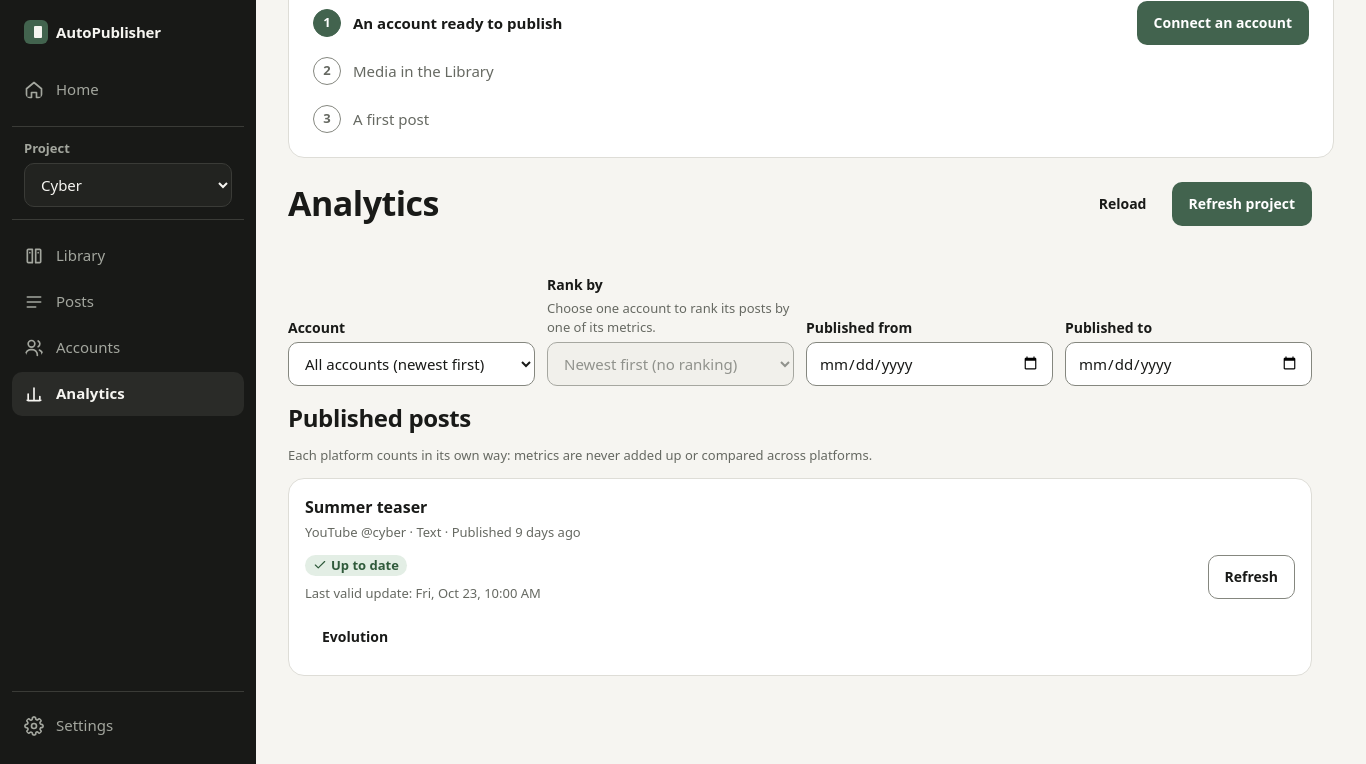
Test: Post evolution › shows a single reading without a line
(page scrolled)
Click the button "Evolution" at (355, 637), box [305,615,405,659]
(page scrolled)
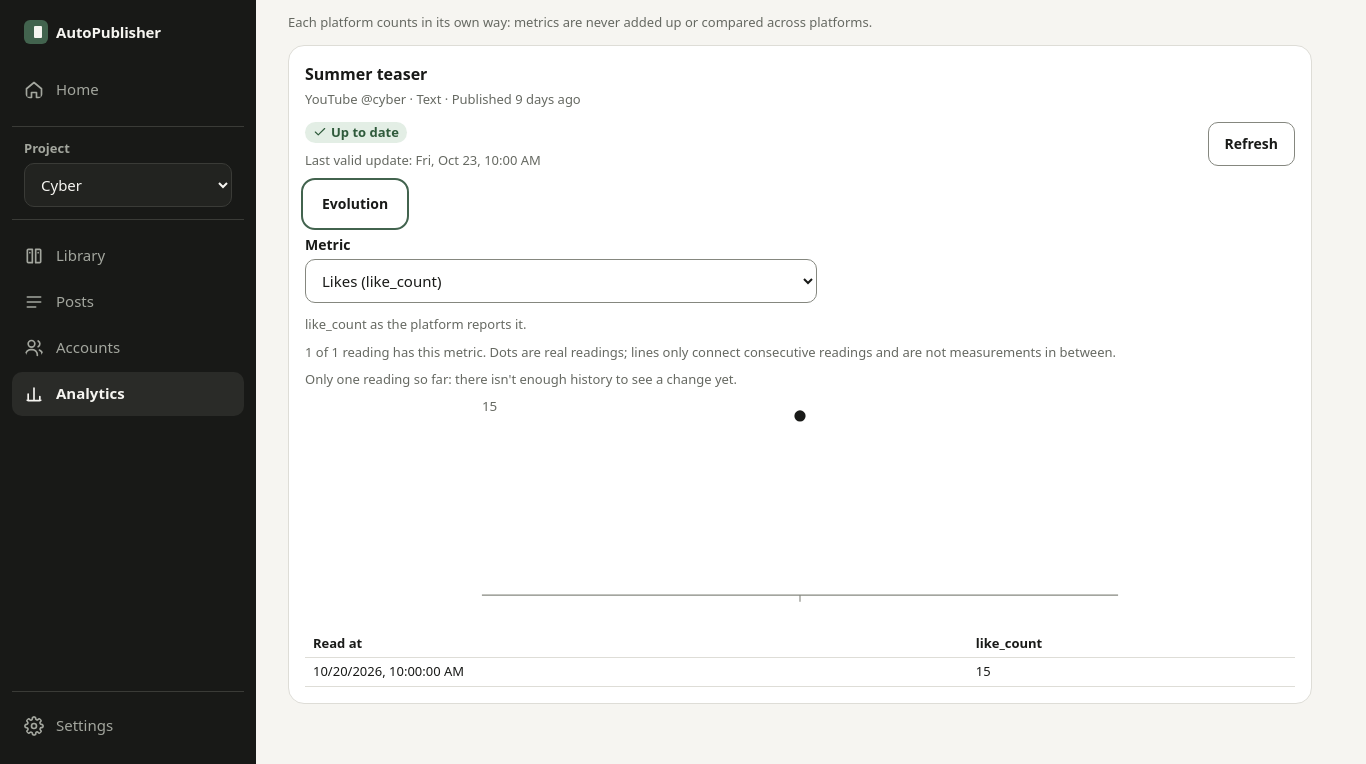
Check: the text "Only one reading so far" is shown, box [305,370,737,388]
